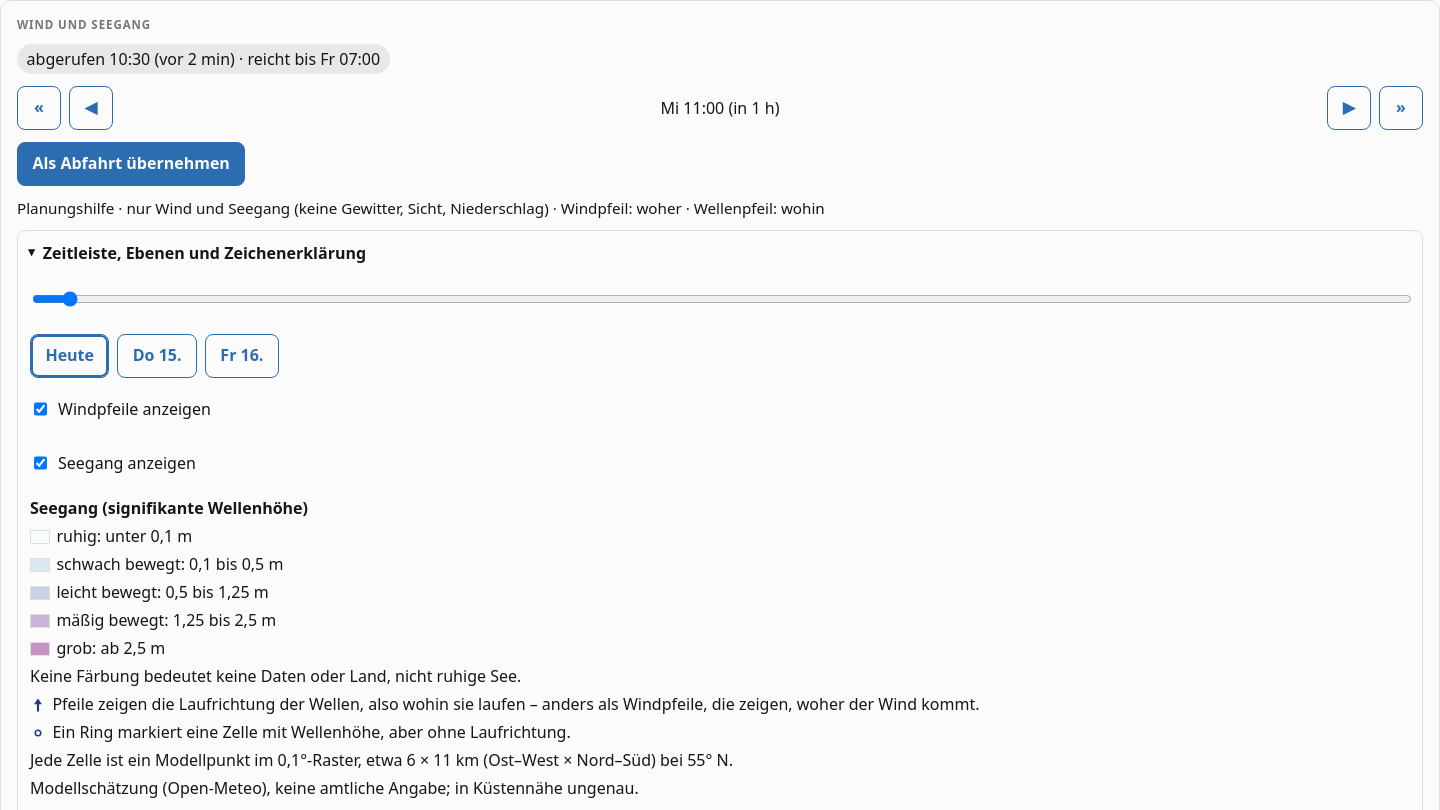
ConditionsPanel hour control and handoff (#1854 §4, §11) › the slider and the day buttons move the hour
The width and height of the screenshot is (1440, 810).
Set the slider named "Uhrzeit für Wind und Seegang" to "5": [192, 299] box [32,277,1412,321]
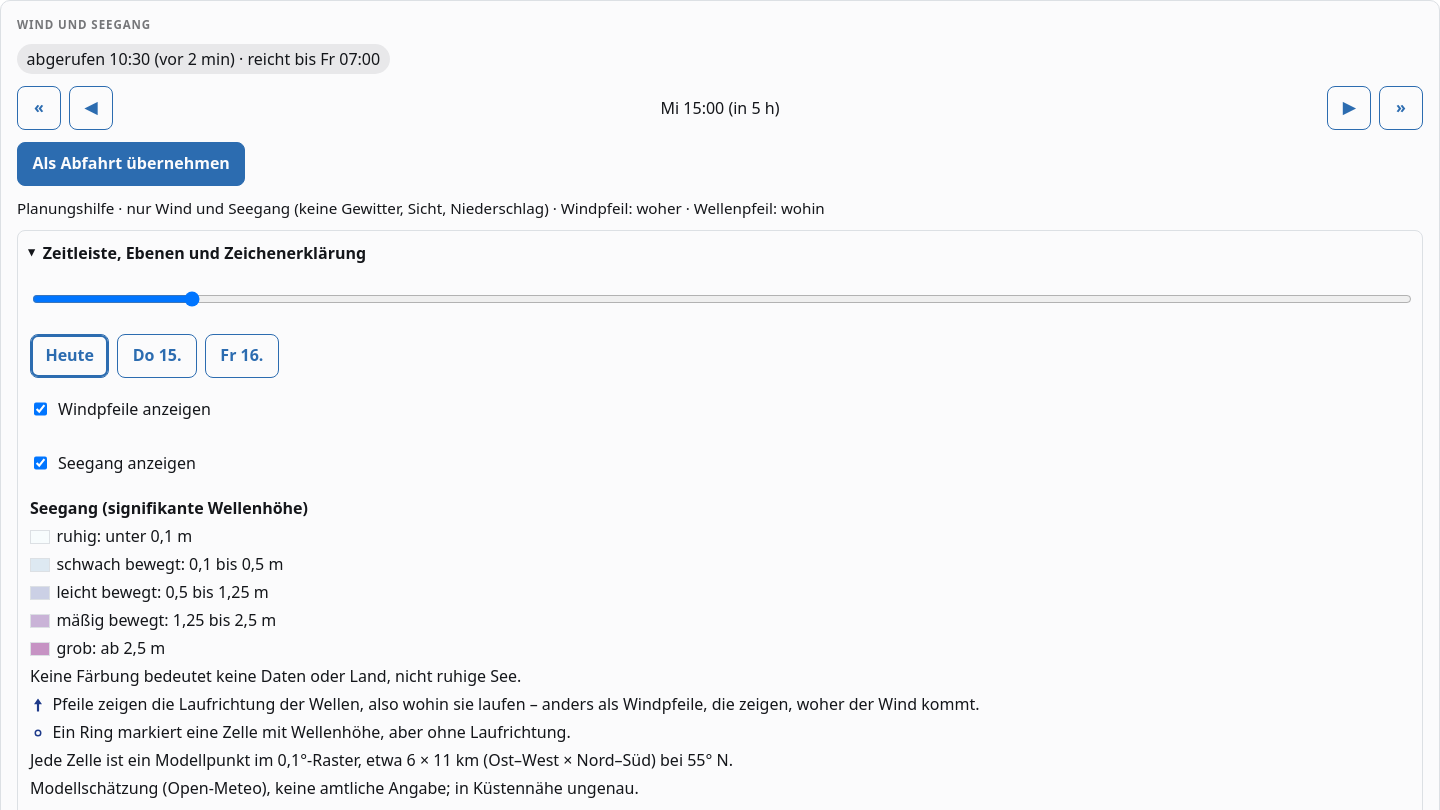
Expected: the button "Heute" is shown, [30,334,109,378]
Now the text with class "conditions-hour-value" shows "(in 5 h)", box [733,97,775,119]
Click the button "Do 15.": [157, 356] box [117,334,197,378]
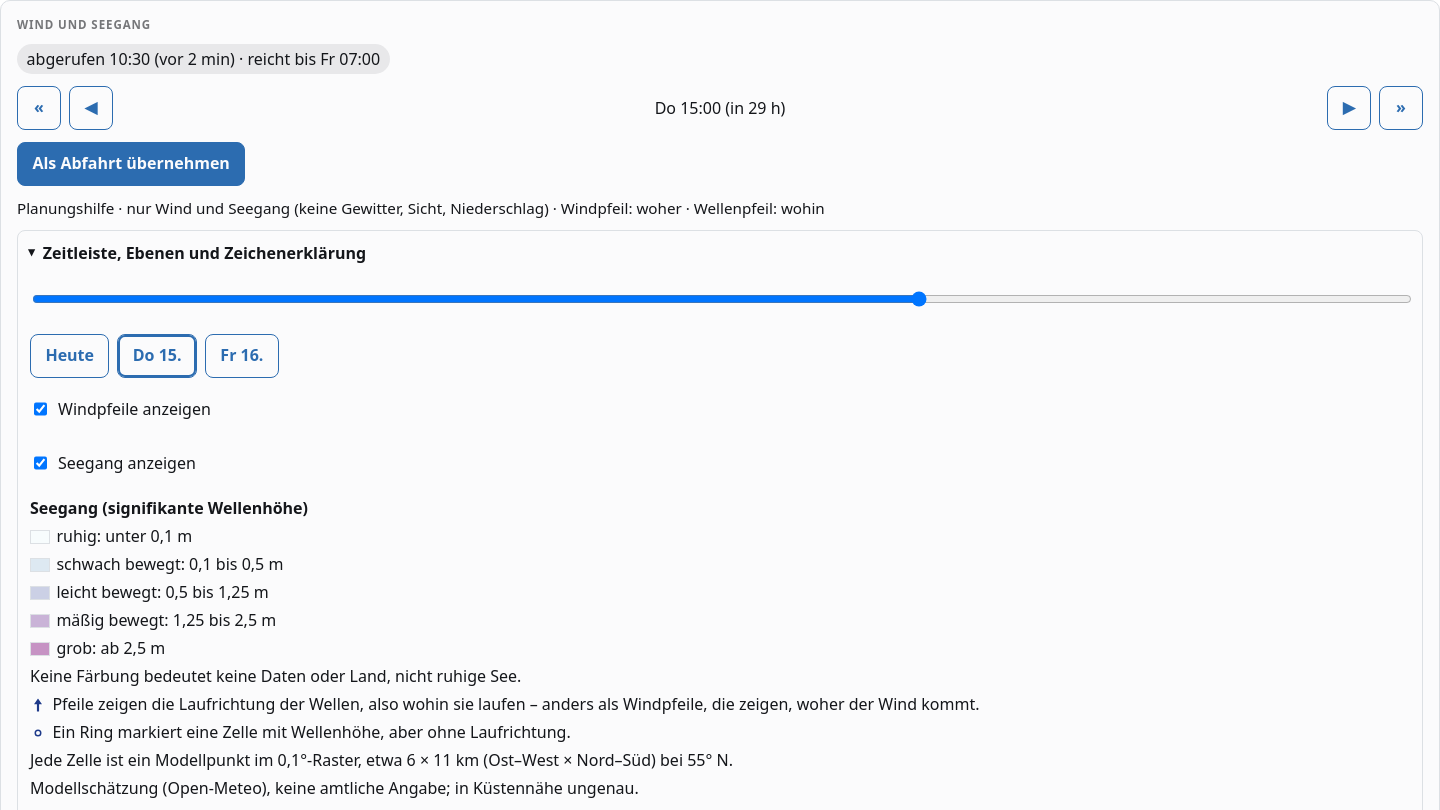
Now the text with class "conditions-hour-value" shows "(in 29 h)", box [730,97,780,119]
